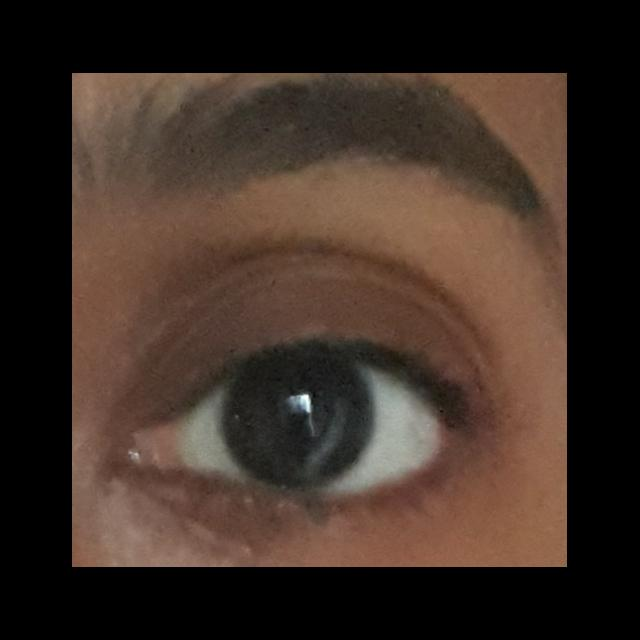eye: (180, 353, 448, 499)
iris: (223, 358, 374, 489)
